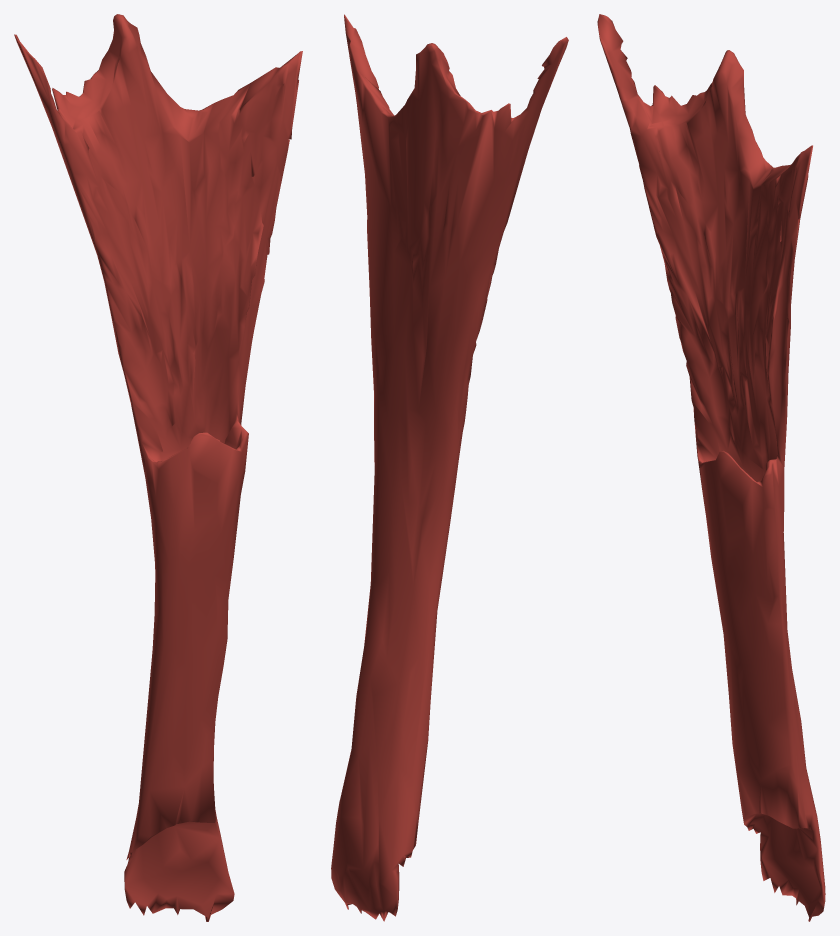
The model's file is musculos-calcaneal-tendon-r.glb.
3 views of the same model, side by side, from view 1: azimuth 30°, elevation 25°; view 2: azimuth 150°, elevation 25°; view 3: azimuth 330°, elevation 25° (orthographic). The views are drawn at different scales.
Visible parts, largest first — view 1: Calcaneal tendon.r; view 2: Calcaneal tendon.r; view 3: Calcaneal tendon.r.
Part boxes in pixels (bbox=[...]): Calcaneal tendon.r: bbox=[14, 14, 302, 921]; Calcaneal tendon.r: bbox=[331, 14, 568, 921]; Calcaneal tendon.r: bbox=[597, 14, 825, 921].
Size of the model in its own units: 0.0631 by 0.2201 by 0.0272.
